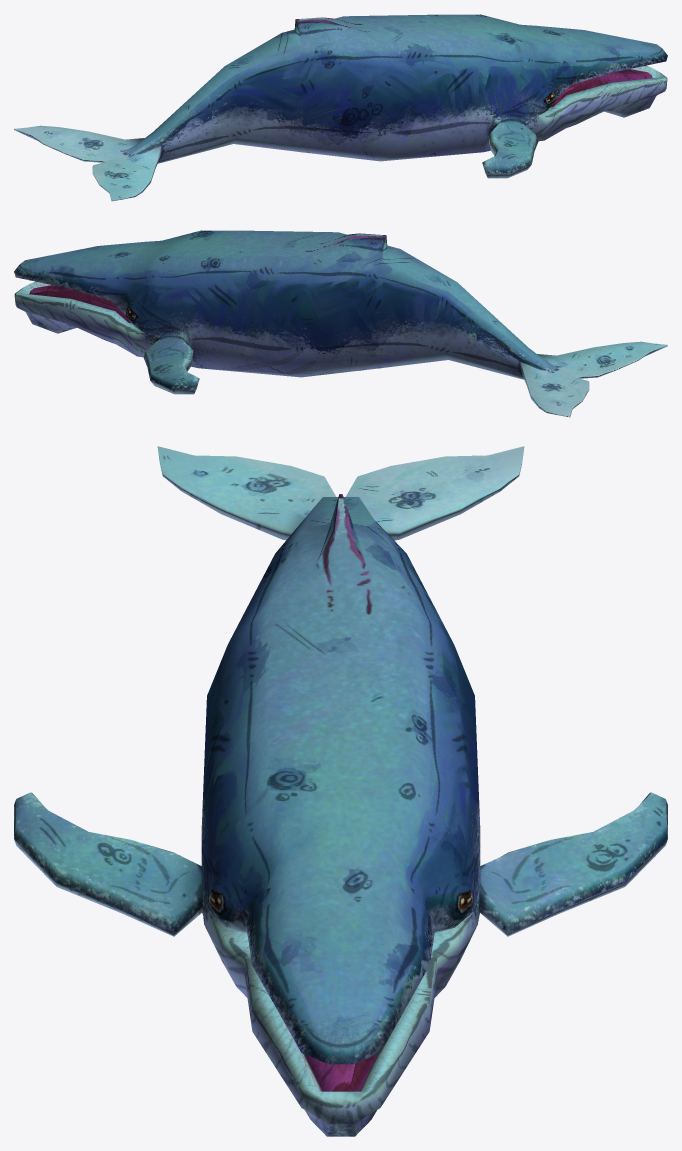
The model's file is Humpback_Whale.fbx.
3 views of the same model, one above another, from view 1: azimuth 30°, elevation 25°; view 2: azimuth 150°, elevation 25°; view 3: azimuth 270°, elevation 25° (orthographic). The views are drawn at different scales.
Parts seen in each view (by area): view 1: Humpback_Whale; view 2: Humpback_Whale; view 3: Humpback_Whale.
Boxes of the visible parts, x1,y1,x2,y2 form: Humpback_Whale: (14,14,667,201); Humpback_Whale: (14,230,667,417); Humpback_Whale: (14,446,667,1136).
Bounding box in the file's own units: 2.91 × 0.7989 × 1.46.
Materials: 1 (1 with a texture image).
